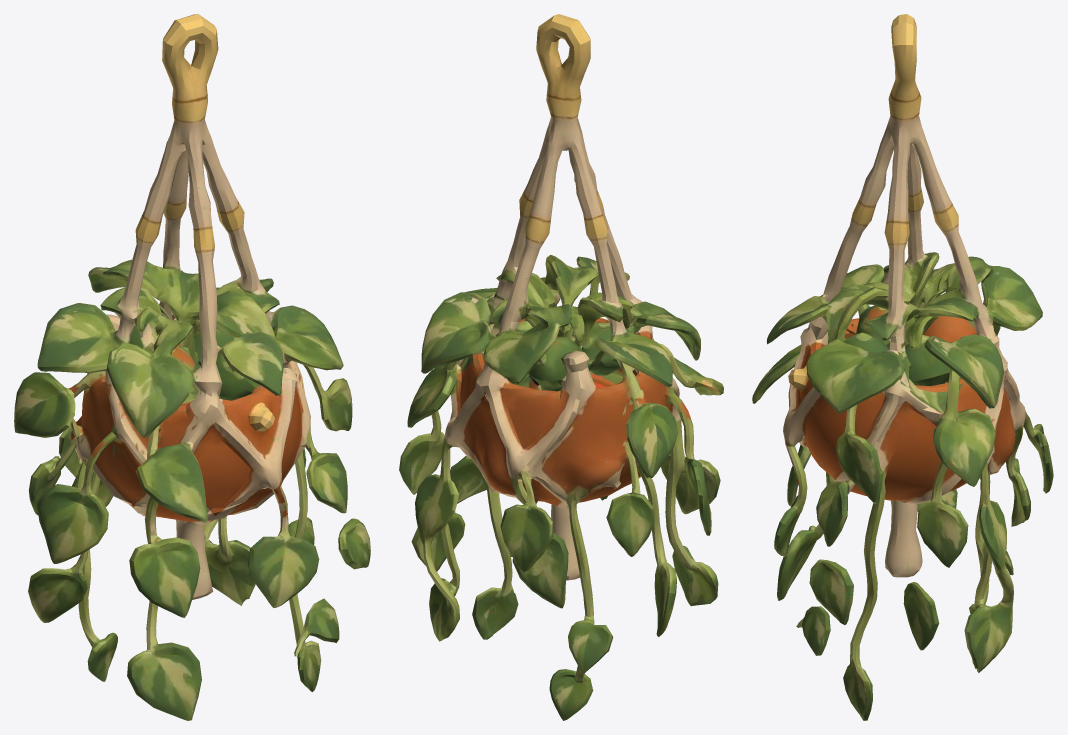
The model's file is Meshy_AI_model.glb.
3 renders of one model, left to right at view 1: azimuth 30°, elevation 25°; view 2: azimuth 150°, elevation 25°; view 3: azimuth 270°, elevation 25°, orthographic. The views are drawn at different scales.
Parts seen in each view (by area): view 1: Mesh0; view 2: Mesh0; view 3: Mesh0.
Boxes of the visible parts, x1,y1,x2,y2 form: Mesh0: (14, 14, 370, 720); Mesh0: (399, 14, 723, 720); Mesh0: (752, 14, 1053, 720).
Bounding box in the file's own units: 0.8633 × 1.89 × 0.7865.
Materials: 1 (1 with a texture image).
